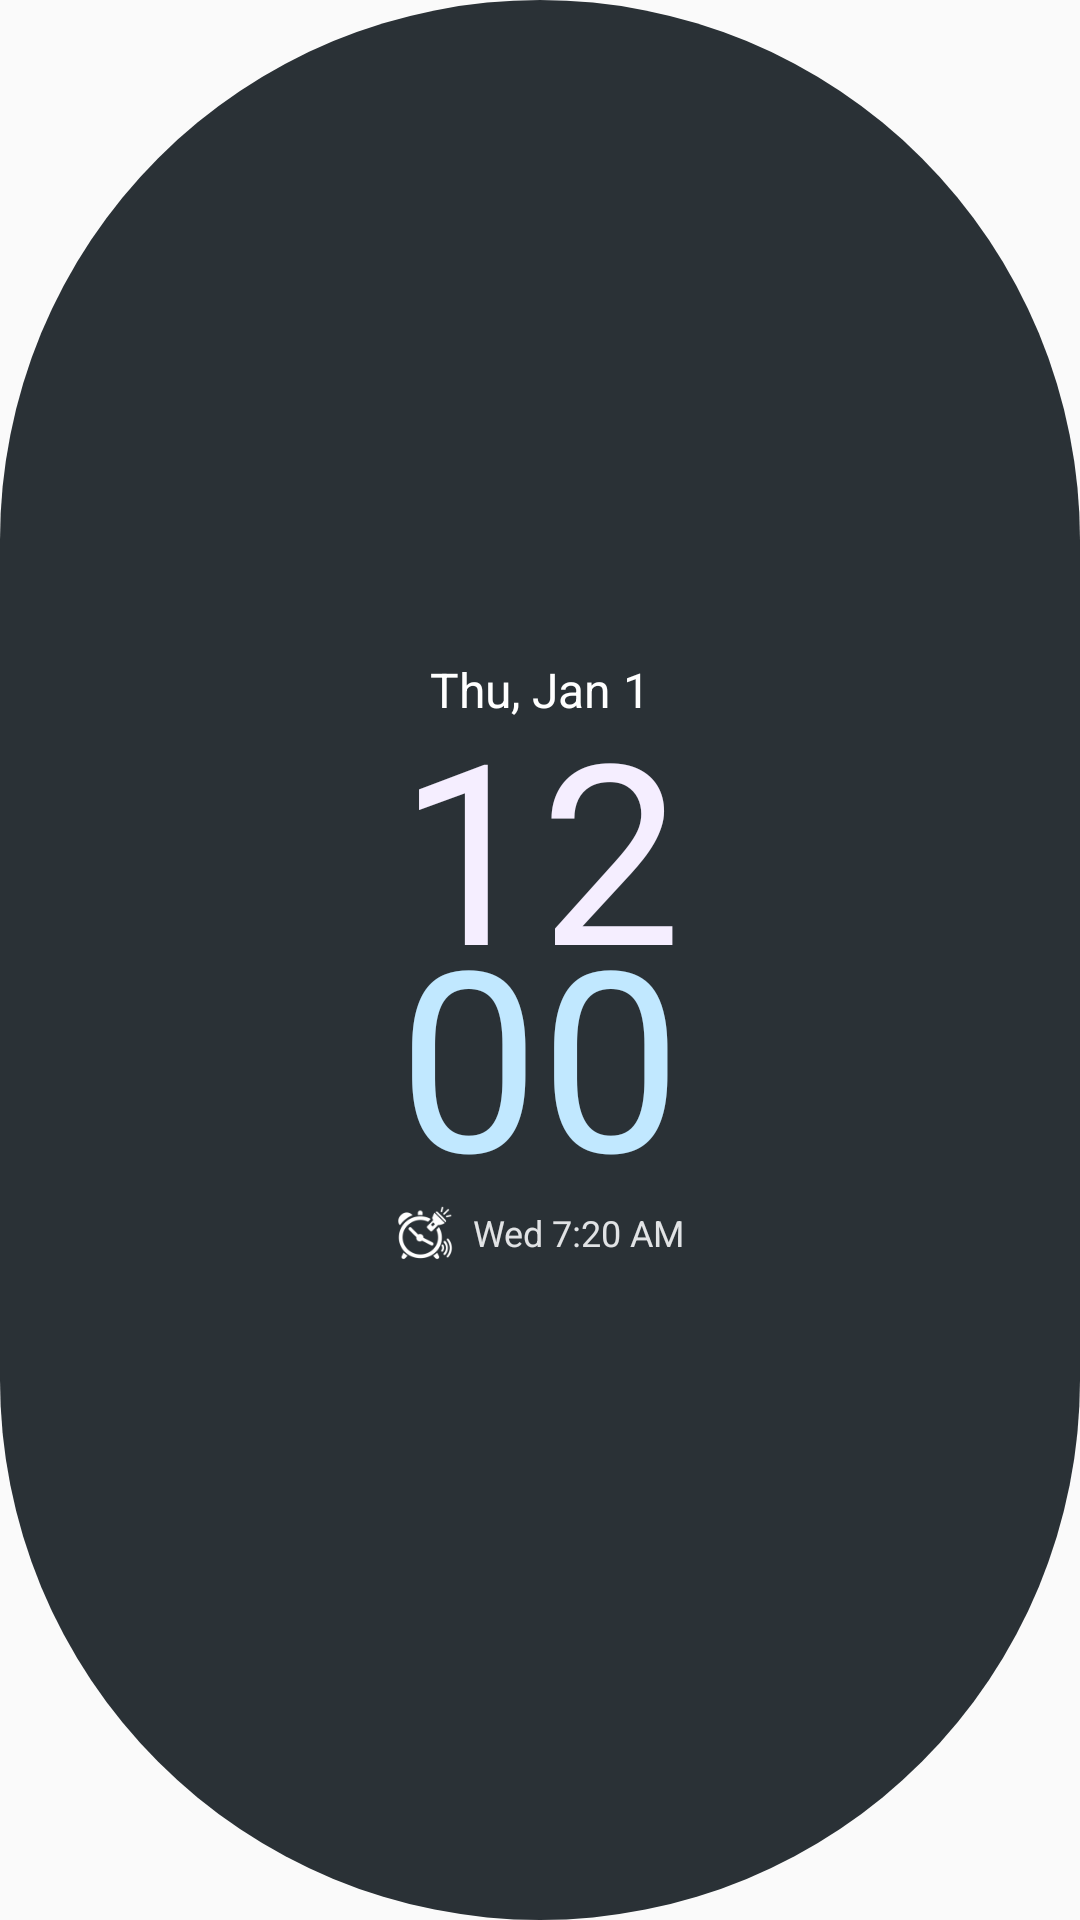

Icons on this 1080×1920 Android screen, each with its box as (x1, y1, x2, y2):
Alarm: (398, 1207, 452, 1259)
